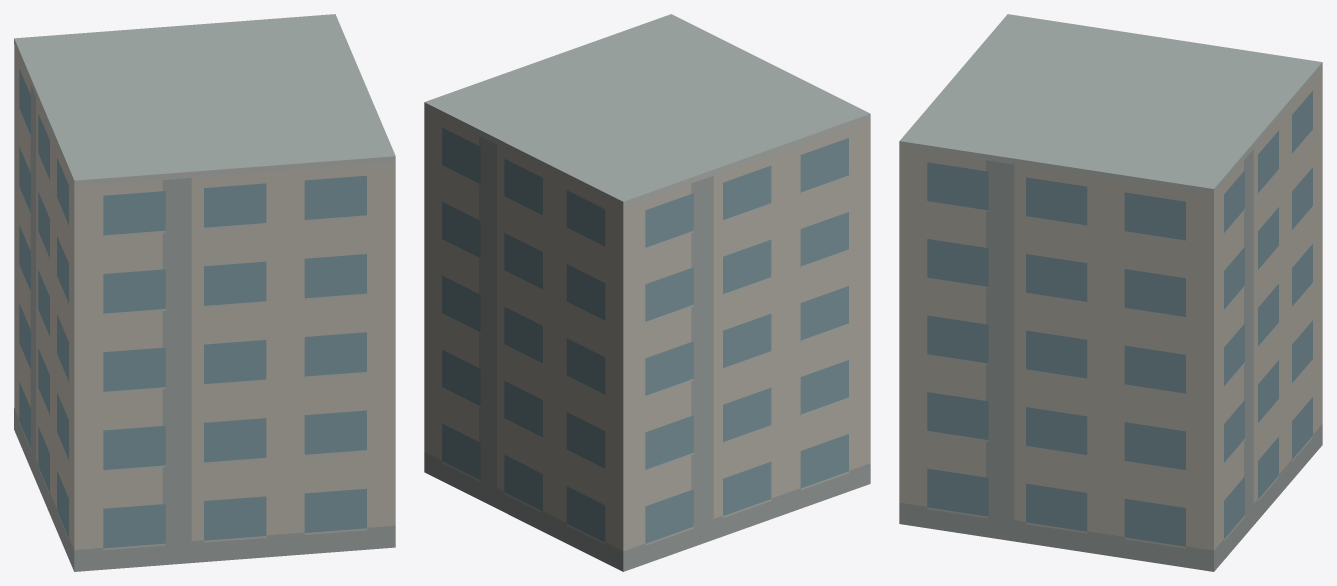
Rendered from residential-6a9d8ea3-019b-424c-b197-567c66bdc899.glb.
3 renders of one model, left to right at view 1: azimuth 30°, elevation 25°; view 2: azimuth 150°, elevation 25°; view 3: azimuth 270°, elevation 25°, orthographic. The views are drawn at different scales.
Parts seen in each view (by area): view 1: residential-6a9d8ea3-019b-424c-b197-567c66bdc899.tmp; view 2: residential-6a9d8ea3-019b-424c-b197-567c66bdc899.tmp; view 3: residential-6a9d8ea3-019b-424c-b197-567c66bdc899.tmp.
Boxes of the visible parts, <box> form: residential-6a9d8ea3-019b-424c-b197-567c66bdc899.tmp: <box>14,14,395,571</box>; residential-6a9d8ea3-019b-424c-b197-567c66bdc899.tmp: <box>424,14,870,571</box>; residential-6a9d8ea3-019b-424c-b197-567c66bdc899.tmp: <box>899,14,1322,571</box>.
Bounding box in the file's own units: 14.96 × 15.25 × 15.28.
